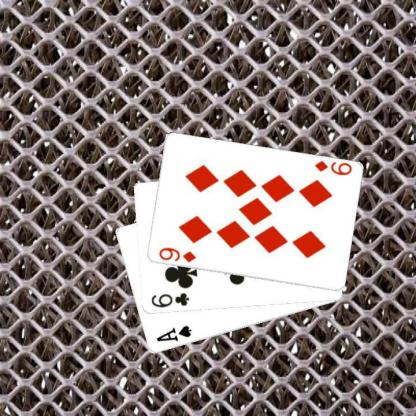6C: (148, 290, 190, 309)
9D: (155, 245, 197, 264), (312, 158, 353, 177)
AS: (154, 323, 192, 343)
